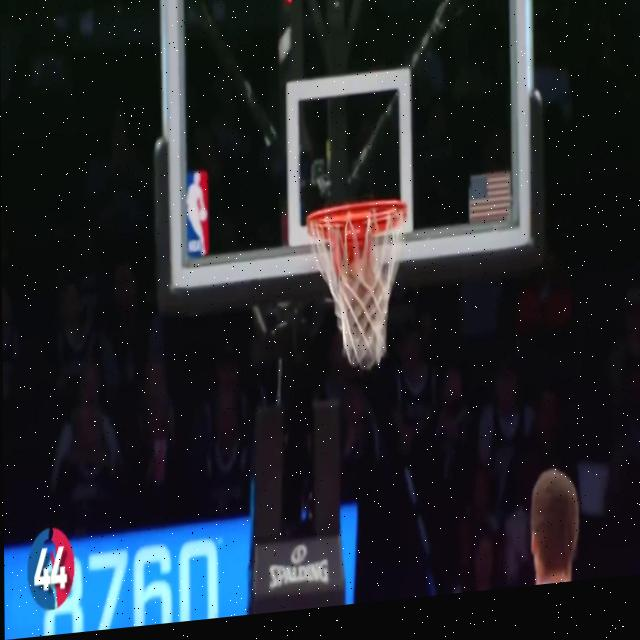basketball: (336, 256, 390, 360)
hoop: (305, 190, 412, 380), (306, 190, 412, 378)
